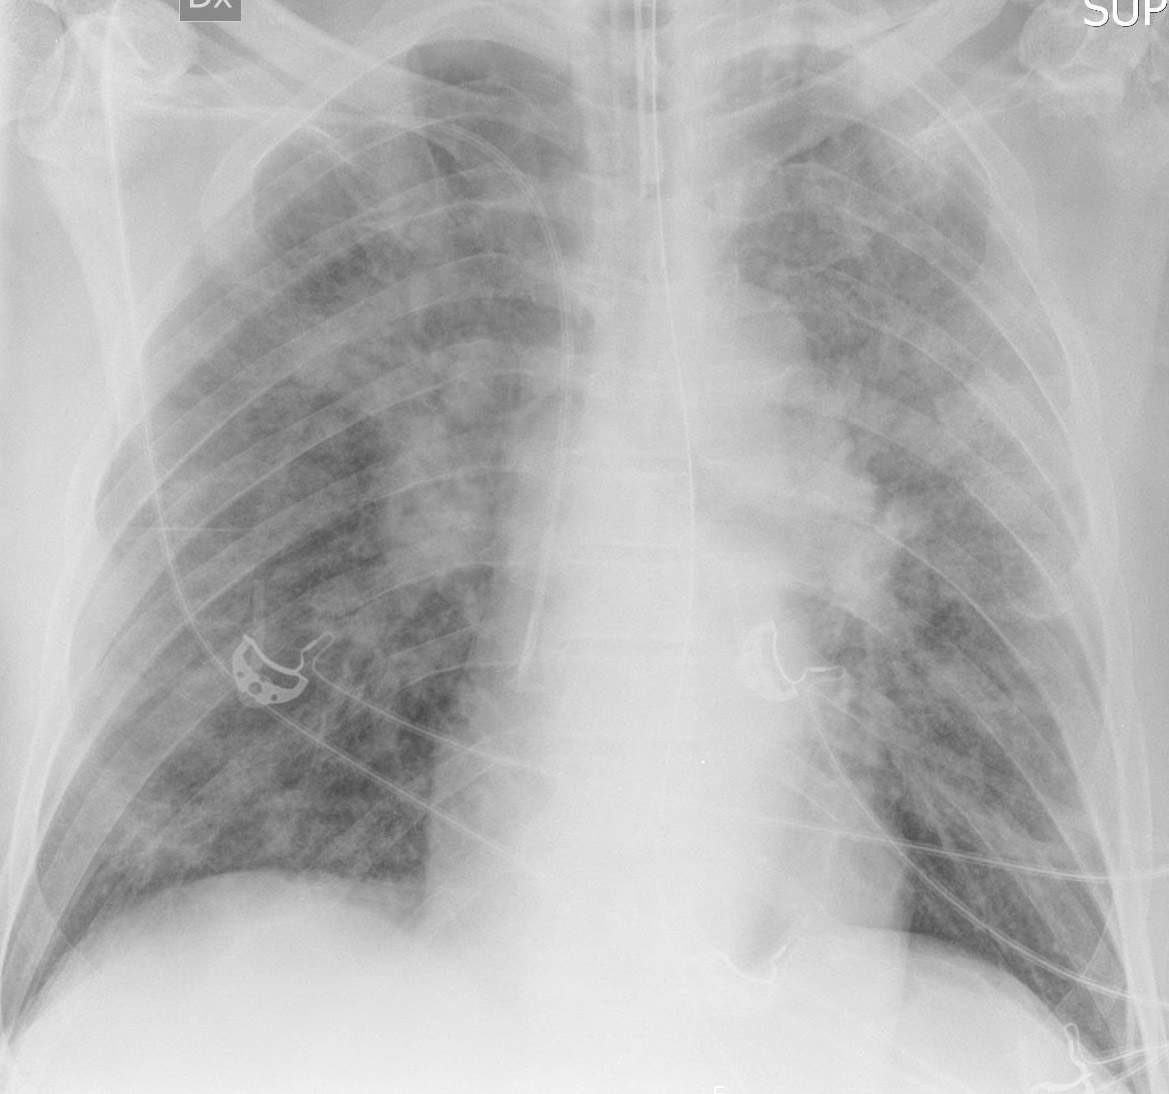Severe: (12, 41, 596, 1018), (710, 39, 1149, 1079)
